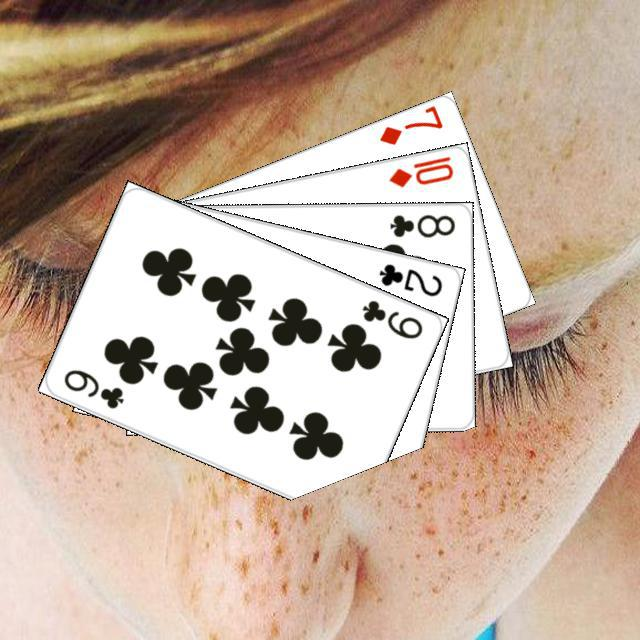10d: (384, 151, 455, 189)
2c: (374, 258, 444, 298)
7d: (374, 102, 445, 147)
8c: (384, 209, 456, 239)
9c: (58, 364, 125, 411), (357, 295, 425, 341)
